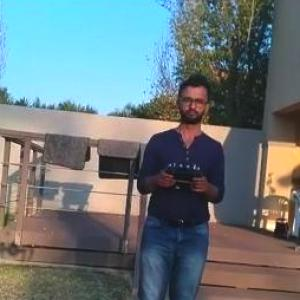follow: (127, 68, 230, 299)
